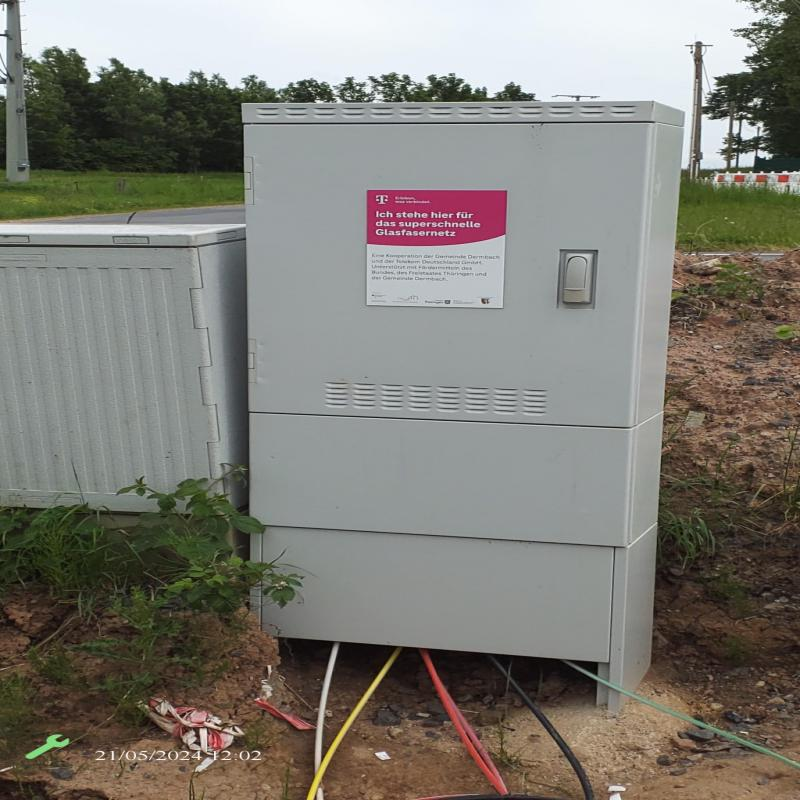NT-Gehause: (238, 100, 683, 649)
Steaker: (365, 186, 506, 306)
